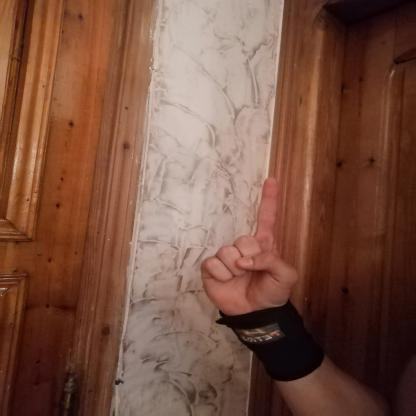BAA: (192, 171, 306, 326)
